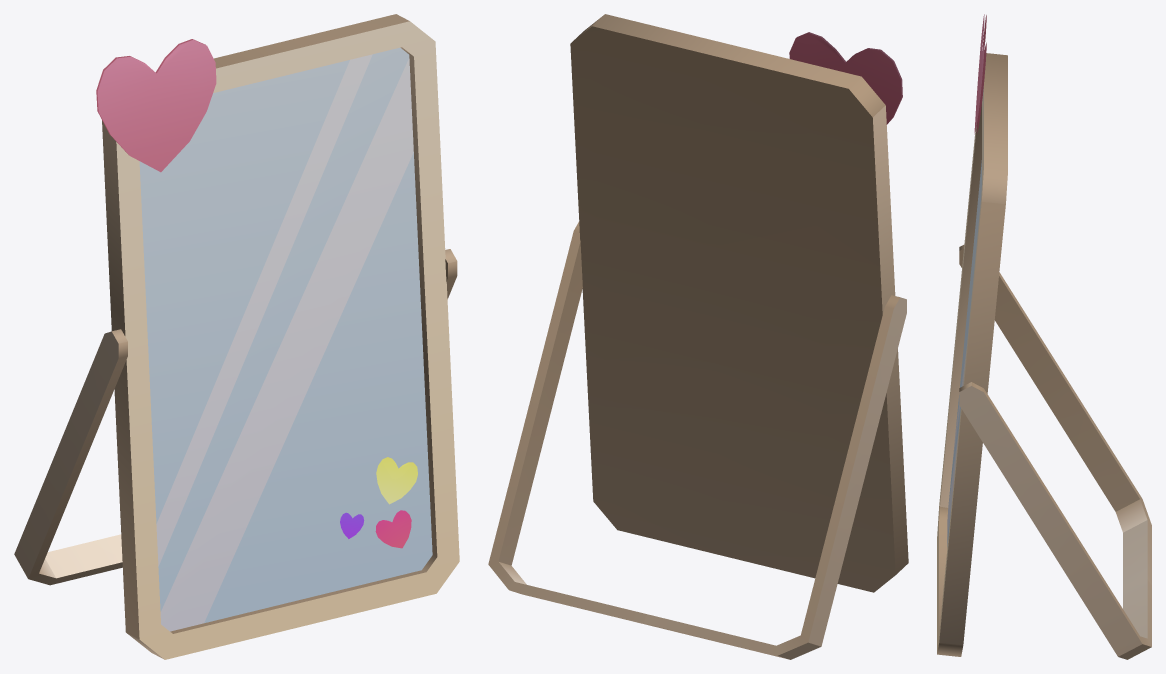
File: CR_Mirror_002.FBX
The picture shows the model from 3 angles, left to right: view 1: azimuth 30°, elevation 25°; view 2: azimuth 150°, elevation 25°; view 3: azimuth 270°, elevation 25°; orthographic projection. The views are drawn at different scales.
Parts seen in each view (by area): view 1: CR_Mirror_002; view 2: CR_Mirror_002; view 3: CR_Mirror_002.
Boxes of the visible parts, x1,y1,x2,y2 form: CR_Mirror_002: (14, 14, 459, 659); CR_Mirror_002: (488, 14, 908, 659); CR_Mirror_002: (937, 14, 1151, 659).
Bounding box in the file's own units: 12.16 × 19.77 × 7.43.
Materials: 1 (1 with a texture image).
